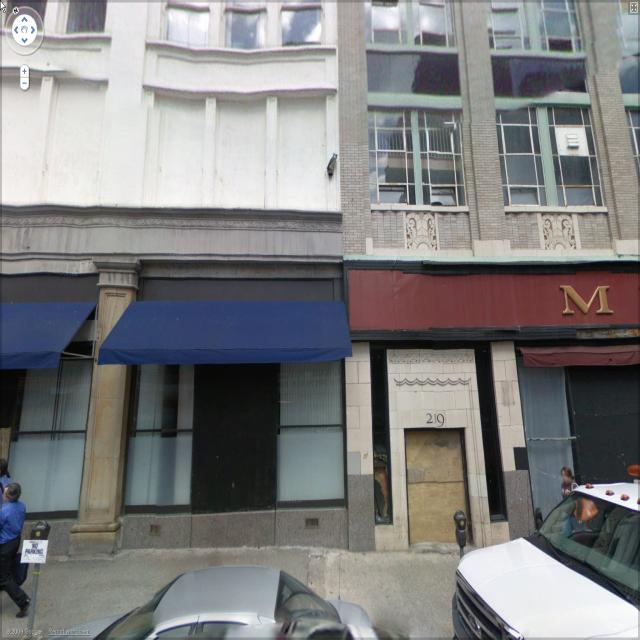b_1: (10, 1, 338, 478), (340, 5, 640, 521)
